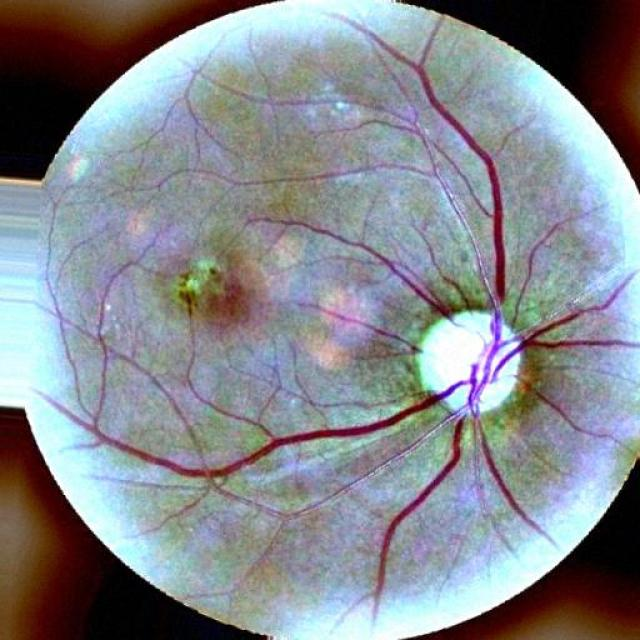Macula: (171, 250, 264, 341)
Nerves: (53, 260, 534, 601), (407, 53, 518, 346)
Optic Disk: (404, 305, 530, 430)
